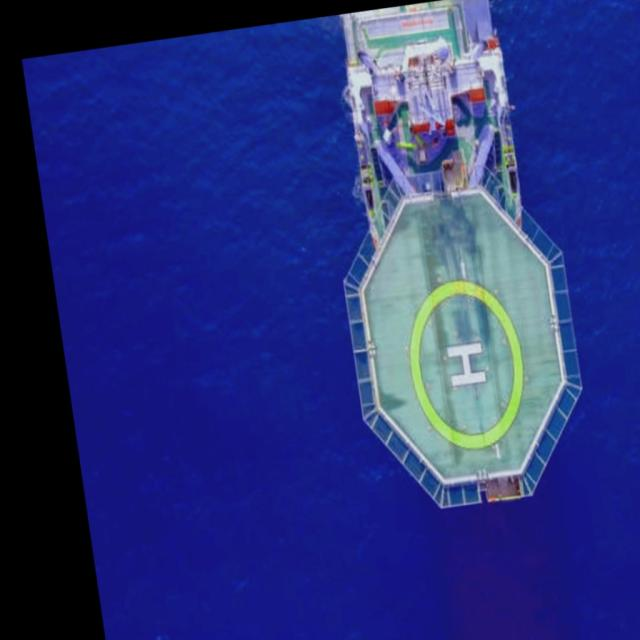helipad: (405, 276, 527, 450)
